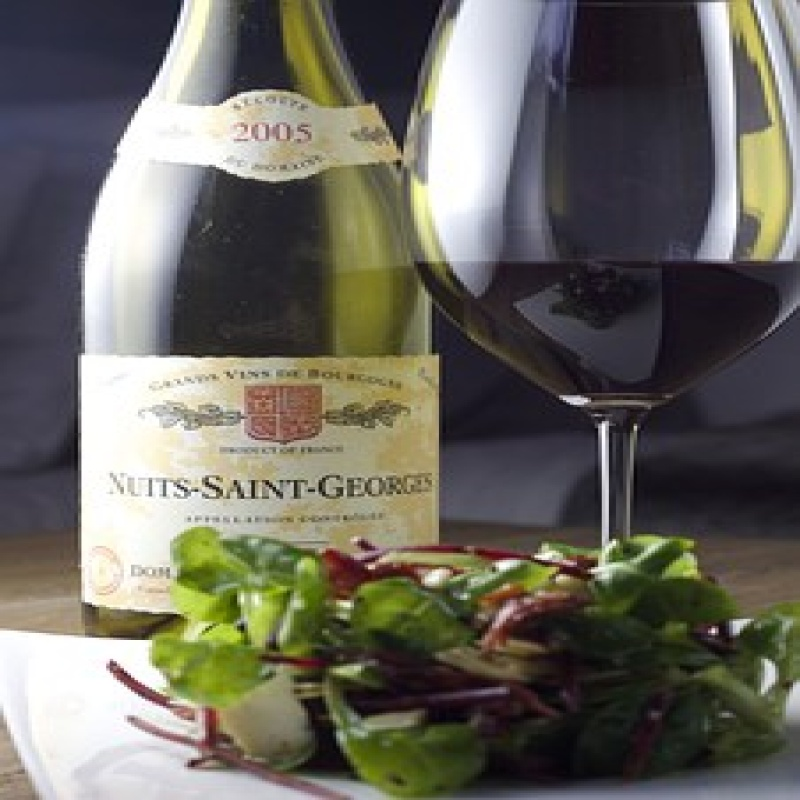wine: (69, 1, 444, 581)
